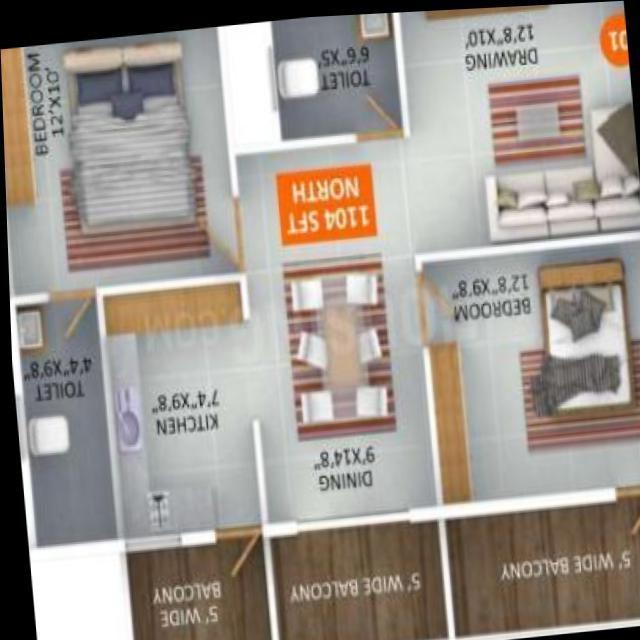Balcony-Sitout: (439, 495, 640, 638), (263, 514, 447, 640), (121, 532, 269, 640)
Bedroom: (418, 237, 640, 508)
Bedroom with Toilet: (0, 22, 239, 551)
Dining: (272, 248, 398, 443)
Enterance-Foyer: (583, 1, 630, 82)
Kitchen: (97, 276, 260, 539)
Living: (399, 1, 640, 255)
Toilet: (12, 290, 113, 540), (271, 10, 402, 138)
